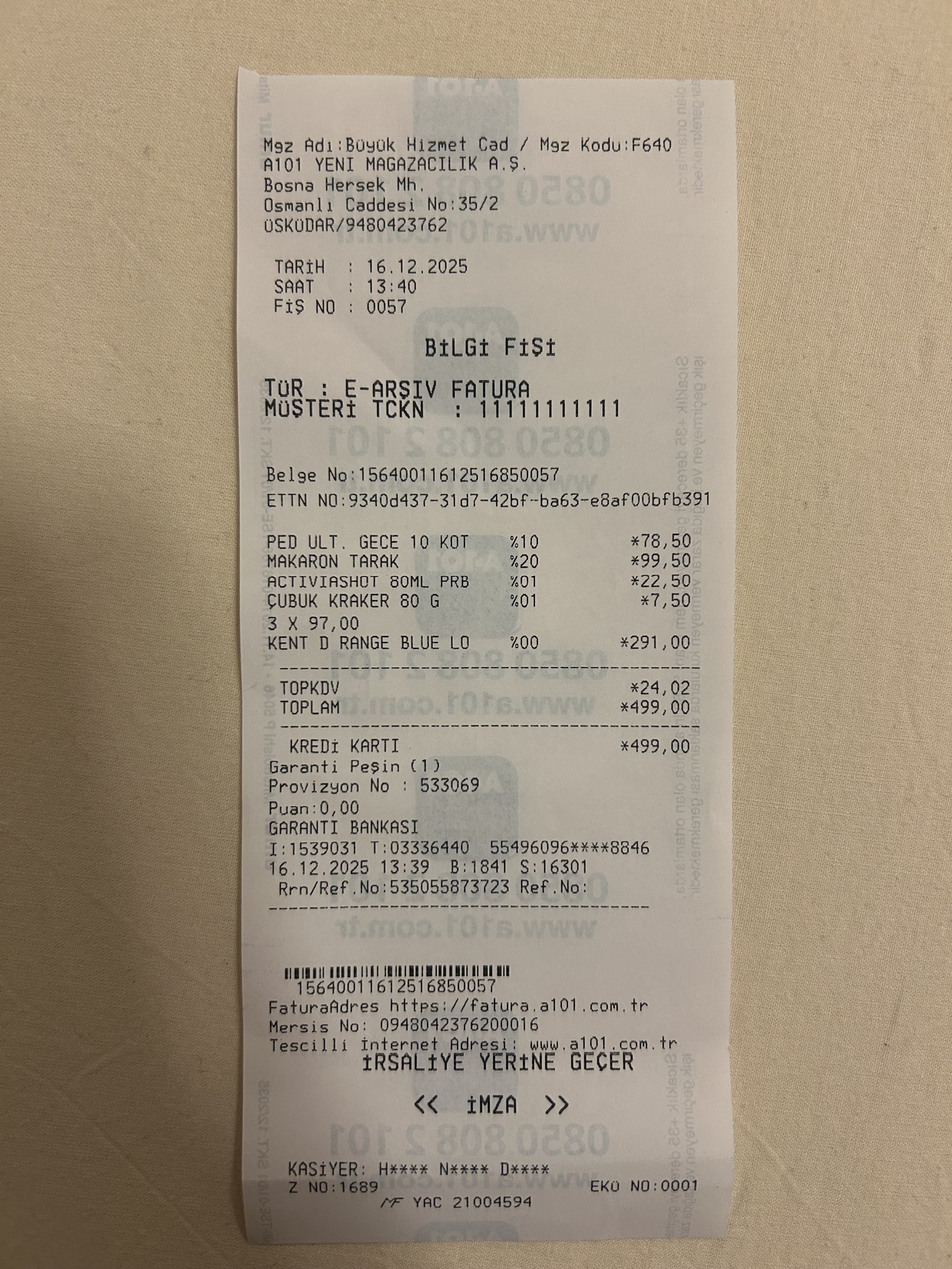date: (361, 252, 473, 277)
price: (625, 696, 698, 722)
workplace: (258, 126, 677, 213)
